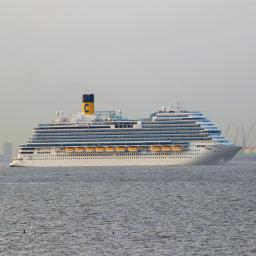cruises: (10, 87, 248, 172)
